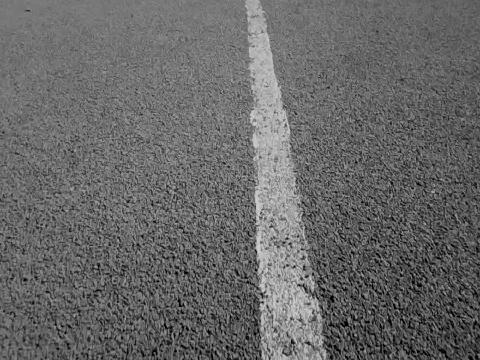Lines: (244, 0, 329, 360)
